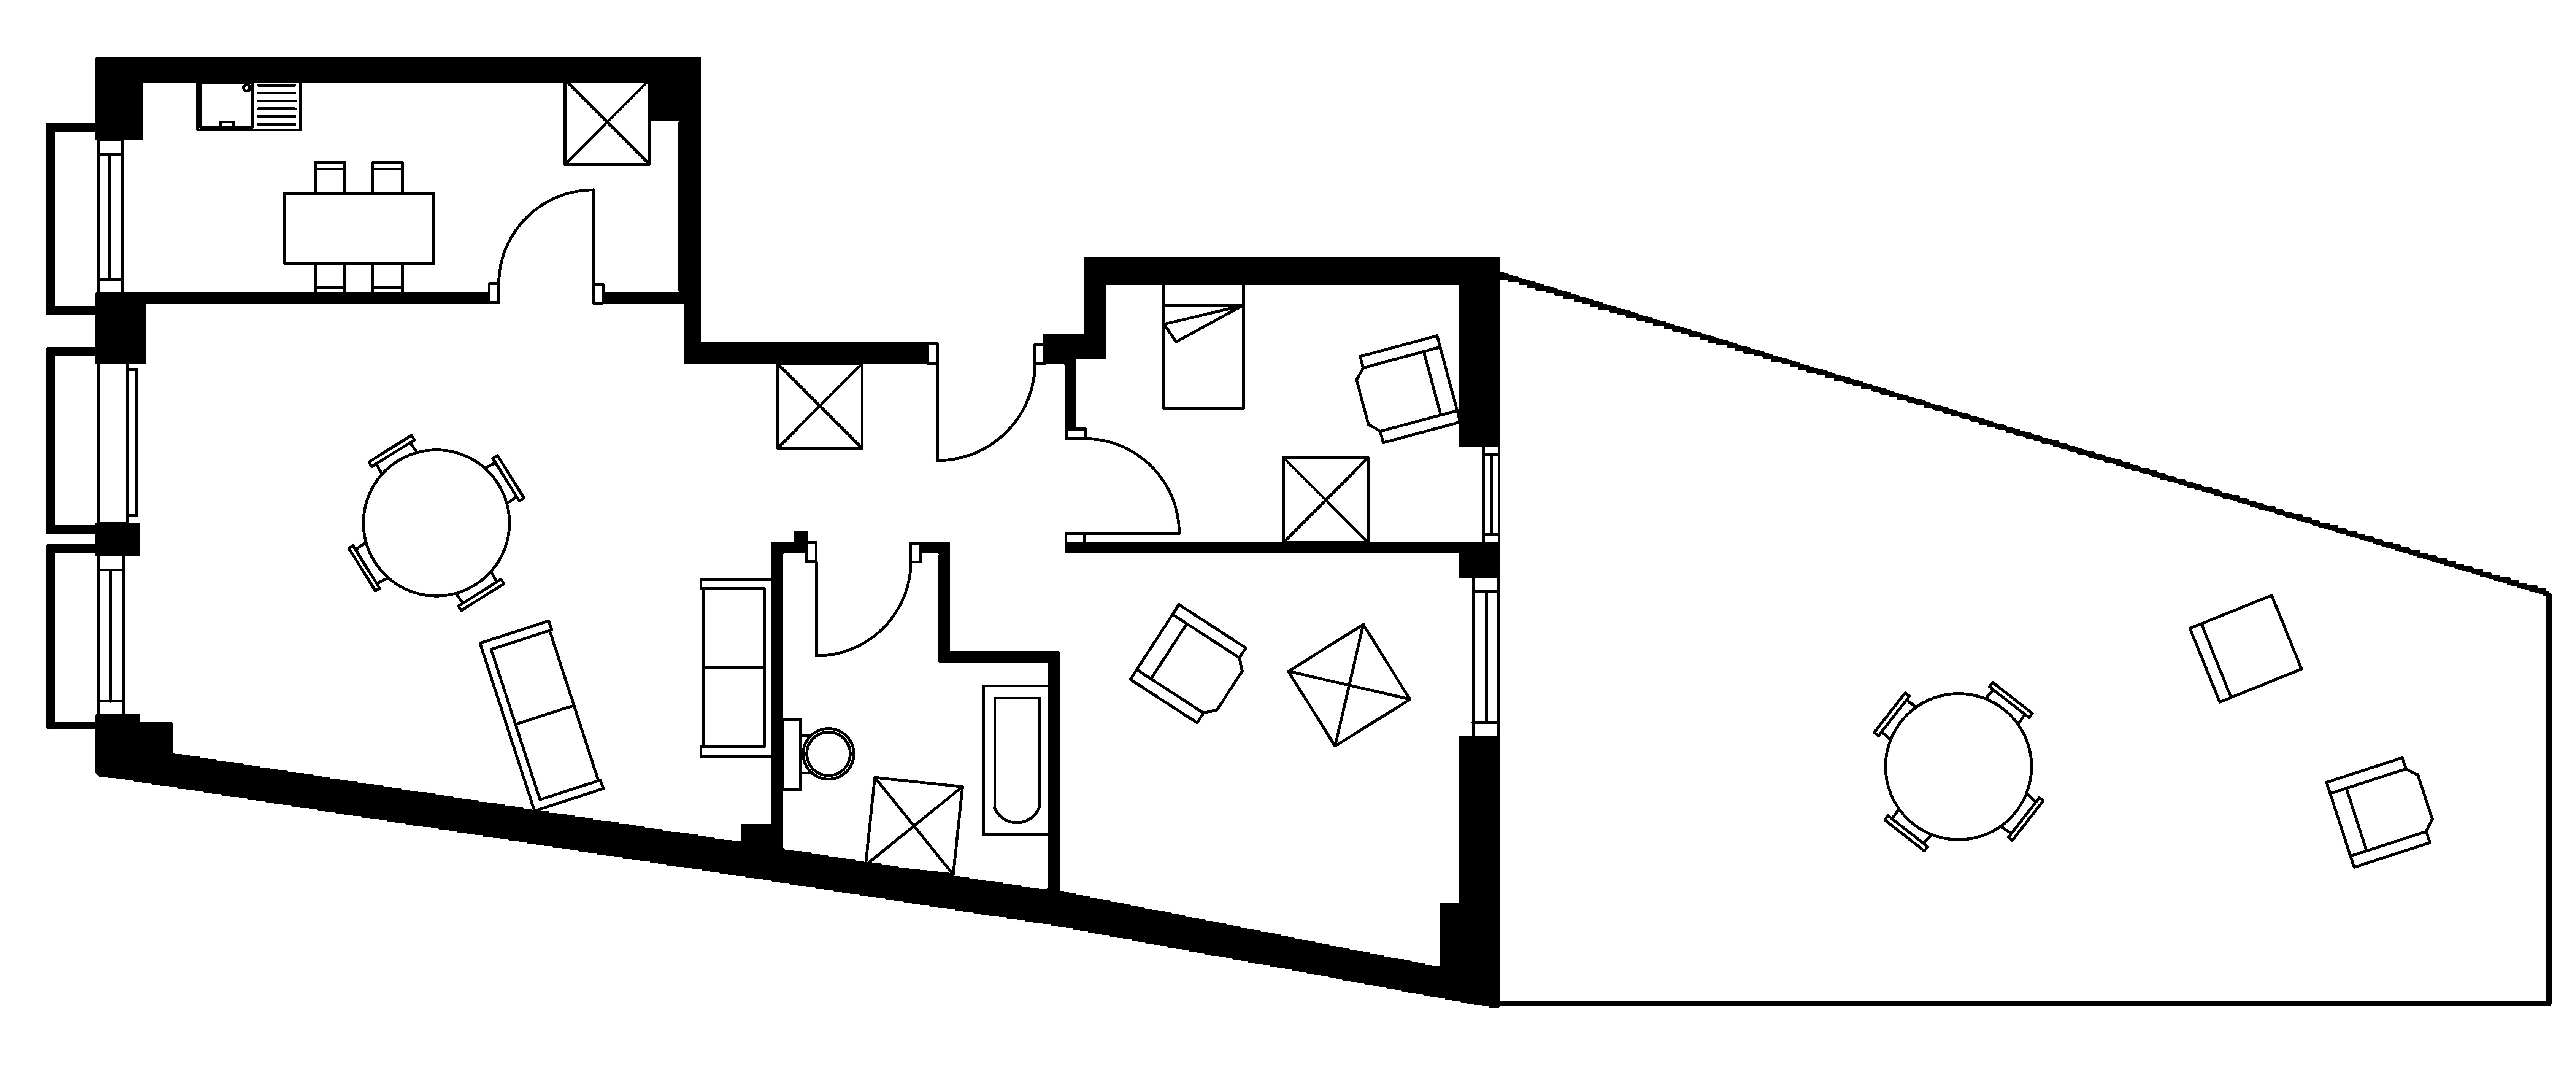armchair: (1129, 602, 1247, 725), (2325, 756, 2435, 868), (1354, 334, 1462, 444)
bed: (1161, 280, 1245, 411)
coffee_table: (1286, 622, 1411, 748), (862, 775, 964, 877), (562, 77, 651, 166), (775, 362, 864, 451), (1281, 456, 1370, 544)
dining_table: (283, 160, 435, 296)
large_sink: (780, 717, 854, 791)
large_sofa: (478, 618, 605, 812), (698, 577, 774, 758)
round_table: (347, 432, 526, 612), (1871, 681, 2045, 853)
sink: (195, 77, 302, 132)
small_sofa: (2188, 594, 2303, 704)
tub: (981, 684, 1051, 837)
